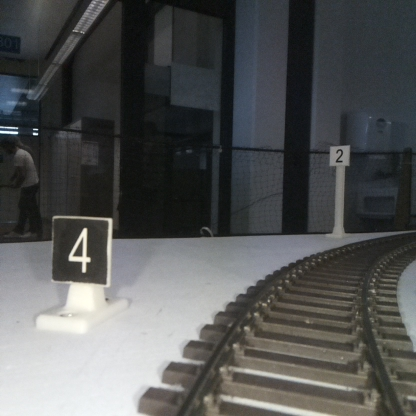black-stop-4: (53, 221, 108, 327)
white-info-2: (330, 145, 350, 235)
